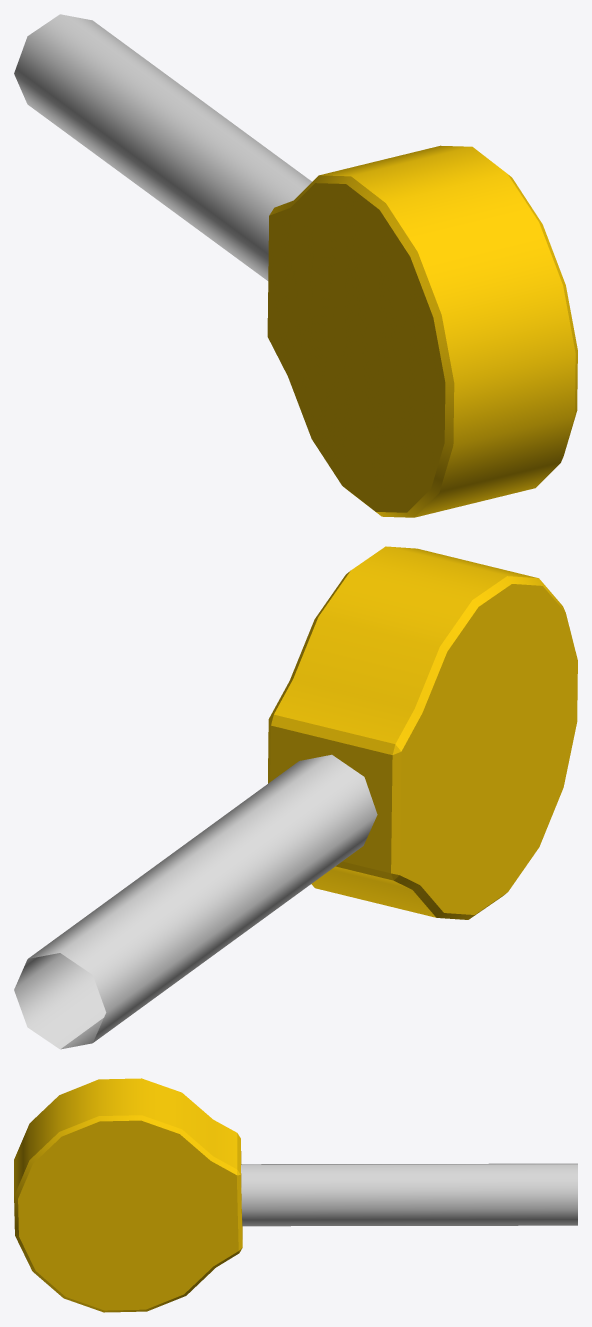
The model's file is Earthmover_Body_RipperCylinderPart_01a_snaps005.fbx.
3 renders of one model, top to bottom at view 1: azimuth 30°, elevation 25°; view 2: azimuth 150°, elevation 25°; view 3: azimuth 270°, elevation 25°, orthographic. The views are drawn at different scales.
Visible parts, largest first — view 1: Earthmover_Body_RipperCylinderPart_01a_snaps005; view 2: Earthmover_Body_RipperCylinderPart_01a_snaps005; view 3: Earthmover_Body_RipperCylinderPart_01a_snaps005.
Boxes of the visible parts, x1=… form: Earthmover_Body_RipperCylinderPart_01a_snaps005: x1=14, y1=14, x2=577, y2=517; Earthmover_Body_RipperCylinderPart_01a_snaps005: x1=14, y1=546, x2=577, y2=1049; Earthmover_Body_RipperCylinderPart_01a_snaps005: x1=14, y1=1078, x2=577, y2=1312.
Size of the model in its own units: 11.84 by 27.13 by 70.3.
